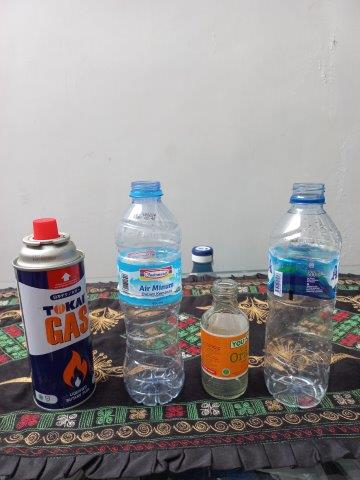botolkaca: (201, 280, 250, 398)
botolplastik: (268, 183, 342, 404), (117, 181, 185, 407)
kaleng: (11, 219, 95, 411)
